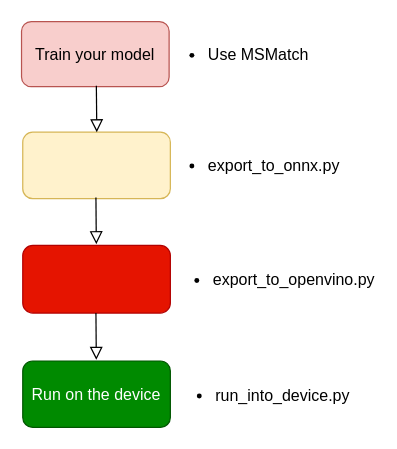
This 397x449 diagram has some shape labels left out. The box of each missing label's shape, as (x1, y1, x2, y2) in pixels:
Export ONNX model to OpenVINO IR: (22, 244, 170, 313)
Export trained model to ONNX: (22, 131, 170, 199)
